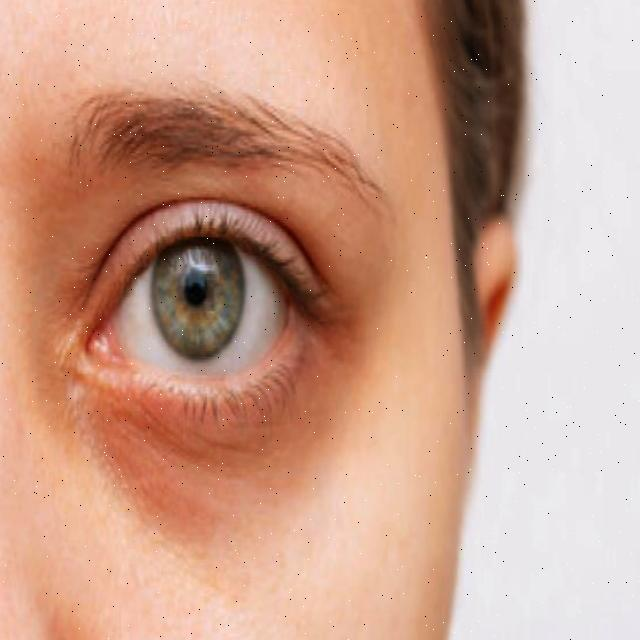puffy_eyes: (68, 353, 315, 527)
